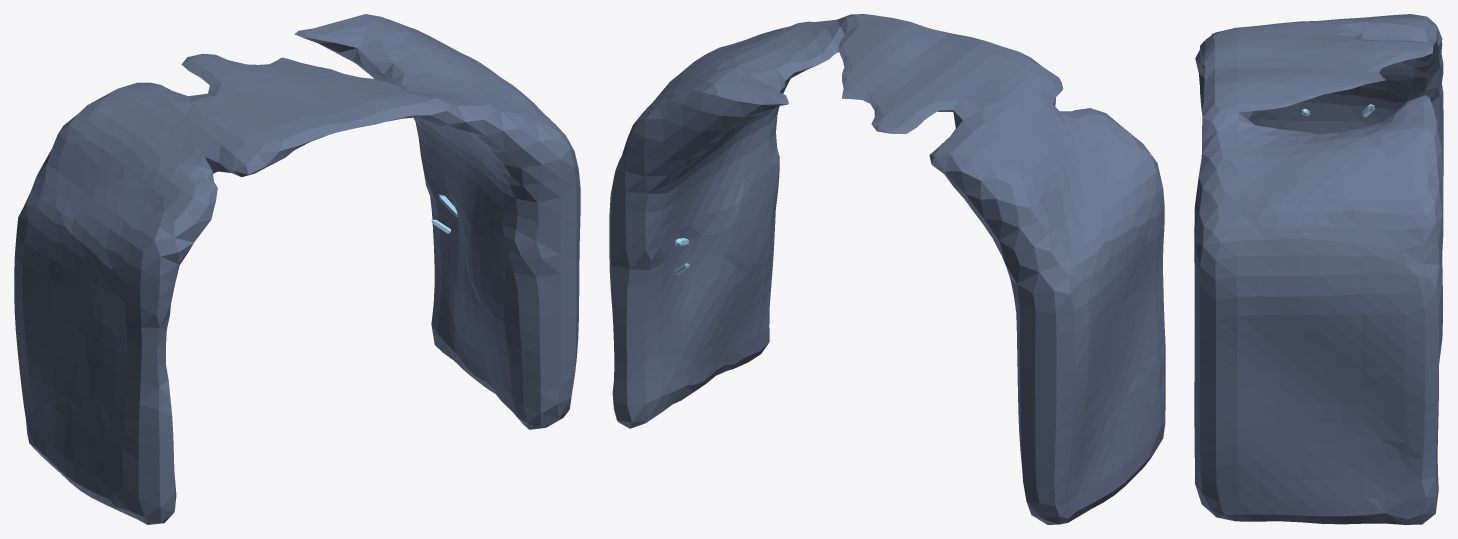
The model's file is MinecartMayhemCave.obj.
3 renders of one model, left to right at view 1: azimuth 30°, elevation 25°; view 2: azimuth 150°, elevation 25°; view 3: azimuth 270°, elevation 25°, orthographic. The views are drawn at different scales.
Parts seen in each view (by area): view 1: Rock; view 2: Rock; view 3: Rock.
Part boxes in pixels (<box>): Rock: <box>14,14,580,524</box>; Rock: <box>609,14,1165,524</box>; Rock: <box>1194,14,1443,524</box>.
Bounding box in the file's own units: 118 × 88.63 × 55.27.
